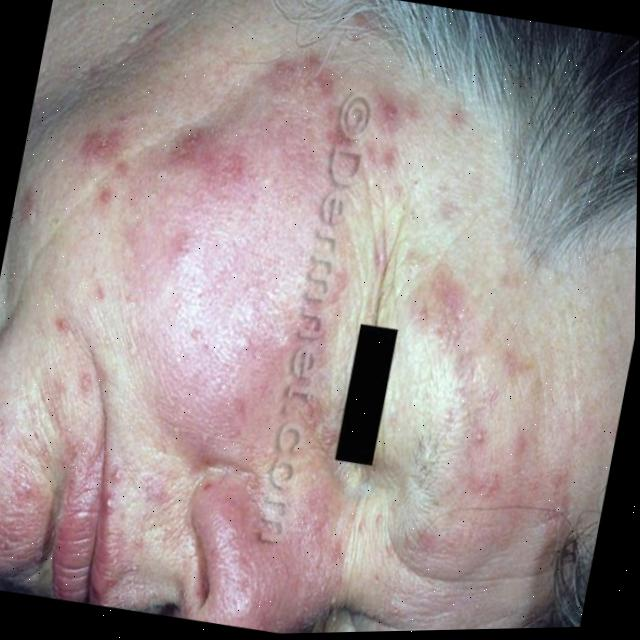Rosacea: (91, 50, 370, 493), (393, 289, 600, 507), (247, 508, 368, 629)
